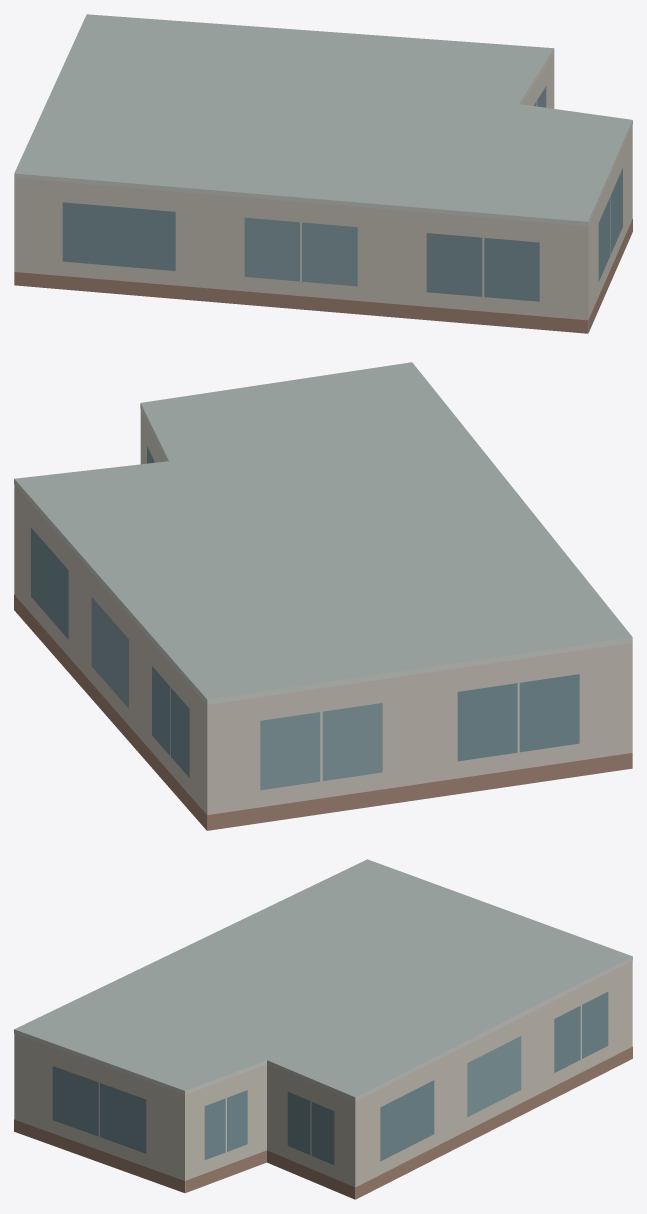
File: survey-upis-32761958.glb
The picture shows the model from 3 angles, top to bottom: view 1: azimuth 30°, elevation 25°; view 2: azimuth 150°, elevation 25°; view 3: azimuth 270°, elevation 25°; orthographic projection. The views are drawn at different scales.
Visible parts, largest first — view 1: survey-upis-32761958.tmp; view 2: survey-upis-32761958.tmp; view 3: survey-upis-32761958.tmp.
Boxes of the visible parts, x1,y1,x2,y2 form: survey-upis-32761958.tmp: (14, 14, 632, 333); survey-upis-32761958.tmp: (14, 362, 632, 830); survey-upis-32761958.tmp: (14, 859, 632, 1199).
Size of the model in its own units: 15.24 by 3.05 by 16.73.
